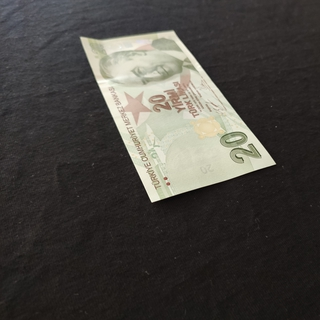20TLFront: (79, 29, 277, 202)
